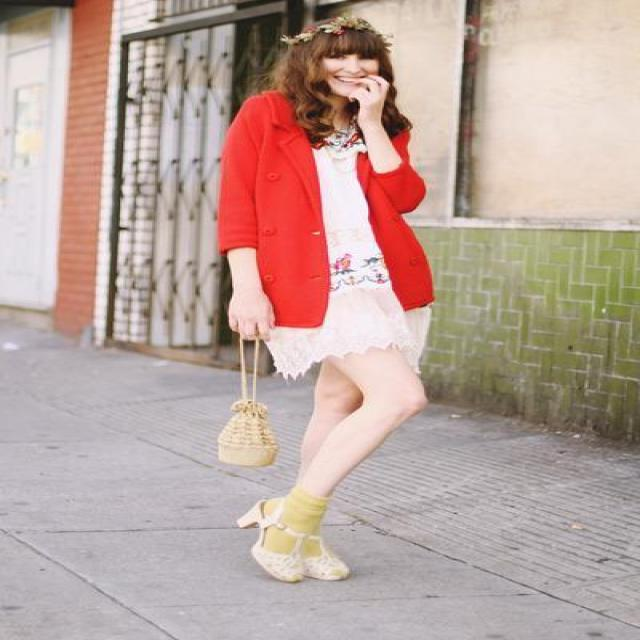bag: (218, 397, 272, 482)
dress: (266, 140, 428, 378)
jacket: (214, 90, 433, 328)
shoe: (221, 499, 347, 579)
